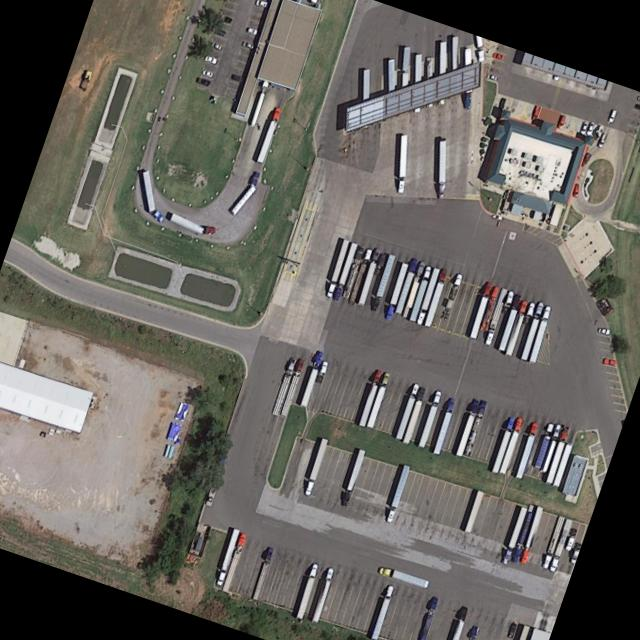large-vehicle: (220, 533, 246, 593), (331, 242, 357, 301), (400, 260, 426, 319), (356, 370, 382, 428), (509, 505, 535, 563), (213, 529, 239, 587), (497, 417, 523, 474), (543, 427, 569, 484), (519, 302, 544, 361), (383, 262, 408, 321), (468, 280, 493, 339), (482, 287, 507, 346), (393, 383, 419, 439), (255, 107, 281, 163), (384, 464, 409, 522), (501, 506, 526, 564), (496, 294, 521, 352), (422, 268, 446, 328), (279, 359, 304, 416), (416, 391, 441, 448), (302, 438, 327, 495), (346, 249, 371, 306), (271, 357, 295, 416), (462, 400, 487, 456), (365, 372, 390, 428), (324, 239, 348, 297), (518, 506, 542, 564), (489, 417, 514, 472), (431, 397, 455, 454), (454, 399, 478, 456), (370, 254, 394, 311), (298, 352, 323, 406), (540, 516, 565, 570), (547, 517, 572, 571), (514, 423, 538, 479), (340, 449, 364, 505), (168, 211, 216, 239), (393, 258, 417, 314), (407, 266, 431, 322), (369, 584, 393, 640), (356, 249, 379, 307), (415, 268, 438, 326), (503, 301, 527, 356), (527, 306, 550, 363), (401, 387, 424, 443), (295, 563, 318, 619), (310, 568, 333, 623), (378, 564, 428, 589), (251, 548, 273, 600), (439, 274, 462, 320), (540, 423, 561, 473), (248, 80, 268, 127), (533, 423, 553, 469), (479, 287, 499, 332), (417, 597, 437, 640), (399, 46, 410, 115), (359, 67, 369, 131), (448, 35, 458, 98), (449, 606, 467, 640), (397, 134, 407, 192), (436, 40, 445, 104), (384, 59, 393, 122), (462, 46, 470, 110), (413, 52, 421, 113), (424, 54, 432, 108), (437, 141, 444, 198), (467, 626, 479, 640)
small-vehicle: (578, 151, 590, 168), (554, 114, 566, 130), (605, 108, 616, 123), (595, 326, 610, 336), (584, 120, 593, 136), (600, 357, 616, 366), (597, 133, 606, 148), (195, 77, 208, 87), (212, 28, 225, 38), (578, 121, 587, 135), (490, 52, 504, 61), (202, 55, 216, 64), (254, 0, 269, 8), (484, 73, 497, 82), (240, 40, 253, 49), (218, 15, 231, 24), (531, 105, 539, 119), (200, 69, 212, 78), (244, 27, 257, 35), (208, 42, 221, 50), (571, 184, 578, 198), (632, 103, 640, 110), (635, 94, 640, 102)
